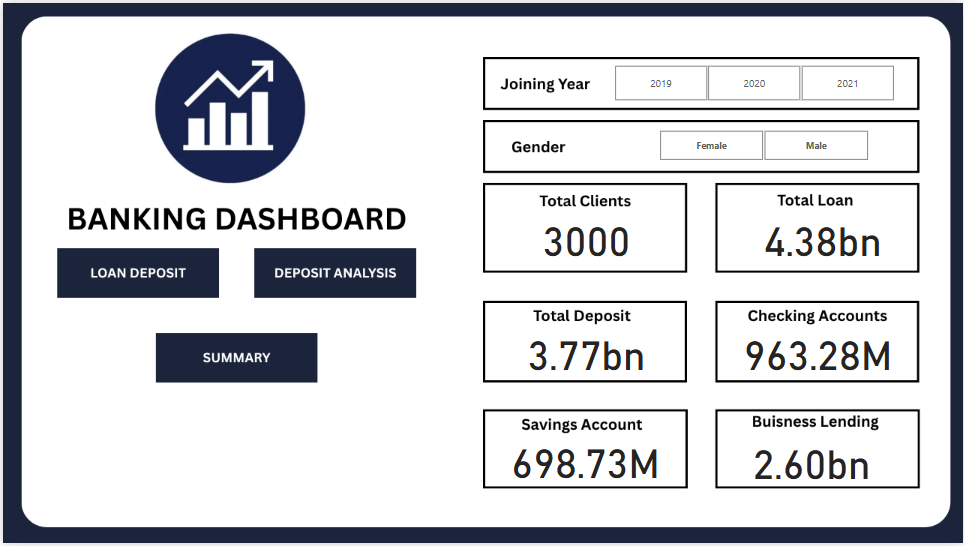

The page's visual inventory and layout, read from the dashboard file:
{"tool":"powerbi","page":{"name":"Home","canvas":[1280,720],"ordinal":0},"visuals":[{"type":"card","fields":{"Values":["CountNonNull(Banking_Clients.Name)"]},"box":[672.9,278.2,209.4,66.5],"z":0},{"type":"slicer","fields":{"Values":["Gender.Gender"]},"box":[850,162.9,327.1,52.9],"z":1000},{"type":"card","fields":{"Values":["Banking_Clients.Total Loan"]},"box":[987.5,277.5,210,67.5],"z":2000},{"type":"card","fields":{"Values":["Banking_Clients.Total Deposit"]},"box":[672.5,430,210,67.5],"z":3000},{"type":"card","fields":{"Values":["Sum(Banking_Clients.Checking Accounts)"]},"box":[982,430,210,67.3],"z":4000},{"type":"card","fields":{"Values":["Sum(Banking_Clients.Saving Accounts)"]},"box":[672.4,575,209.9,65.9],"z":5000},{"type":"card","fields":{"Values":["Sum(Banking_Clients.Business Lending)"]},"box":[972.7,574.7,210,66.7],"z":6000},{"type":"slicer","fields":{"Values":["Banking_Clients.Joining Year"]},"box":[790,76.7,421.7,60],"z":7000},{"type":"actionButton","box":[71.2,326.5,217.3,67.7],"z":8000},{"type":"actionButton","box":[333.6,325.3,217.3,67.7],"z":9000},{"type":"actionButton","box":[203,439.3,217.3,67.7],"z":10000}]}

Visuals, with their boxes in screenshot pixels (x1, y1, x2, y2), scaled from the page's 1280x720 canvas onto the 964x546 screenshot:
card - CountNonNull(Banking_Clients.Name): (507, 211, 664, 261)
slicer - Gender.Gender: (640, 124, 887, 164)
card - Banking_Clients.Total Loan: (744, 210, 902, 262)
card - Banking_Clients.Total Deposit: (506, 326, 665, 377)
card - Sum(Banking_Clients.Checking Accounts): (740, 326, 898, 377)
card - Sum(Banking_Clients.Saving Accounts): (506, 436, 664, 486)
card - Sum(Banking_Clients.Business Lending): (733, 436, 891, 486)
slicer - Banking_Clients.Joining Year: (595, 58, 913, 104)
actionButton: (54, 248, 217, 299)
actionButton: (251, 247, 415, 298)
actionButton: (153, 333, 317, 384)
